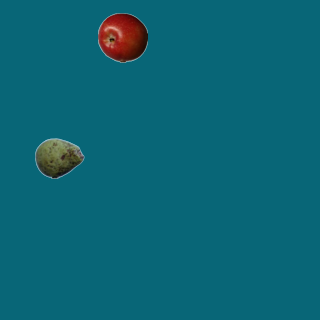Apple Braeburn: (97, 12, 147, 62)
Pear Stone: (34, 133, 84, 183)
